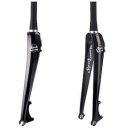Fork: (75, 1, 116, 128)
